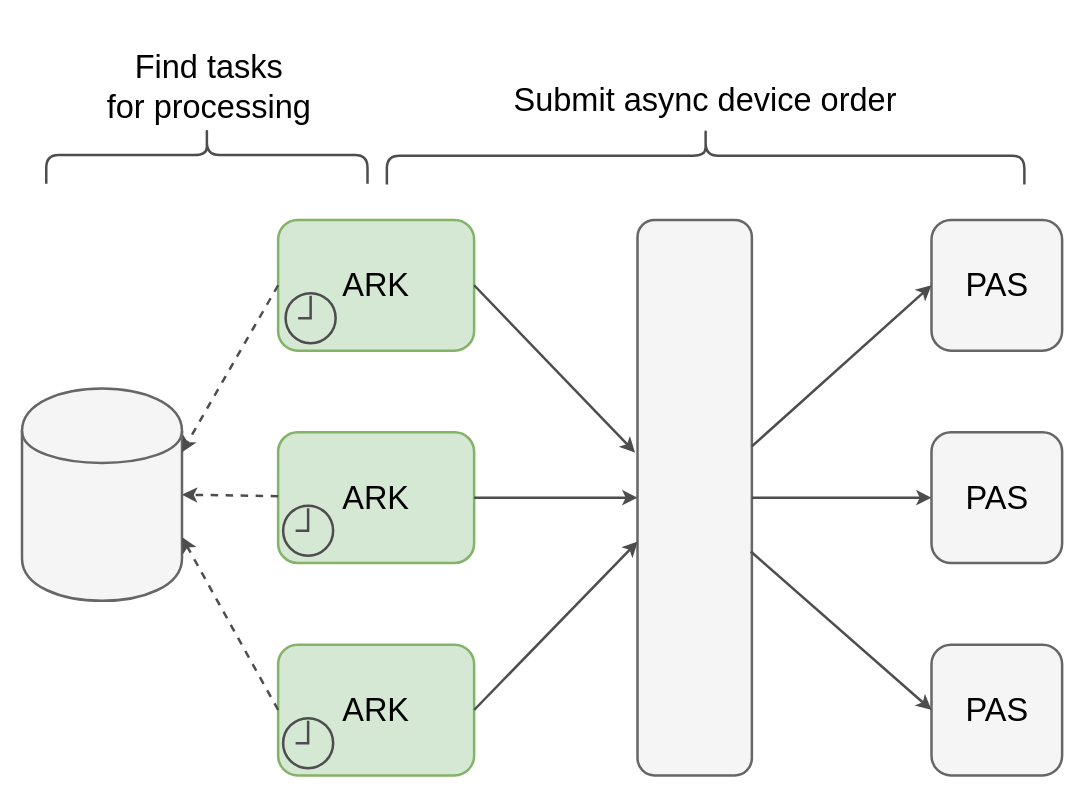
This 1086x799 diagram has some shape labels left out. Here are the shapes that lost their labels. From the top down, the centre of each, then its label:
the point at 101,494: MDS
the point at 694,497: PWR
